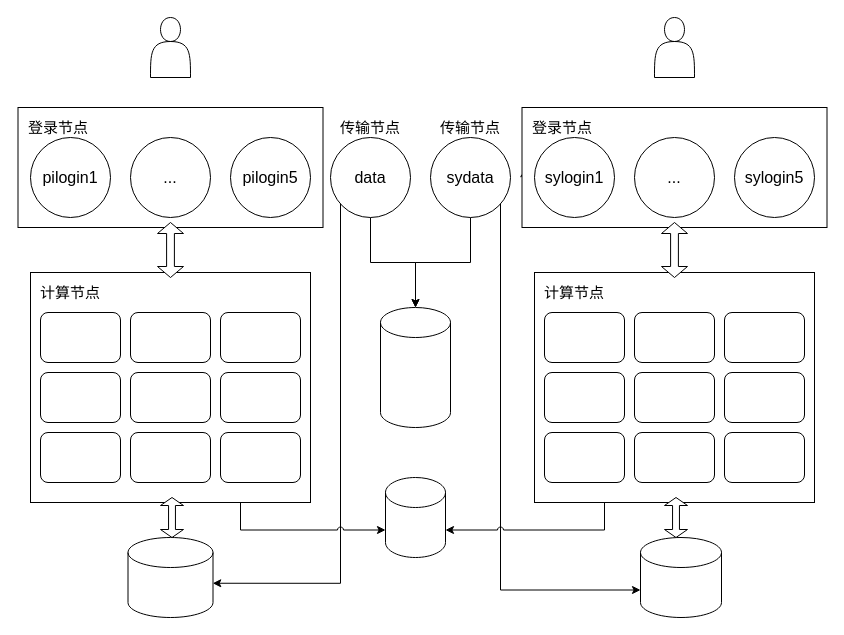
This 844x635 diagram has some shape labels left out. The shapes that lost their labels are listed below. From the top down, each one's centre as x and y in pixels, then its label:
At (x=415, y=367): "archive".
At (x=415, y=517): "scratch".
At (x=170, y=577): "Lustre".
At (x=681, y=577): "GPFS".
